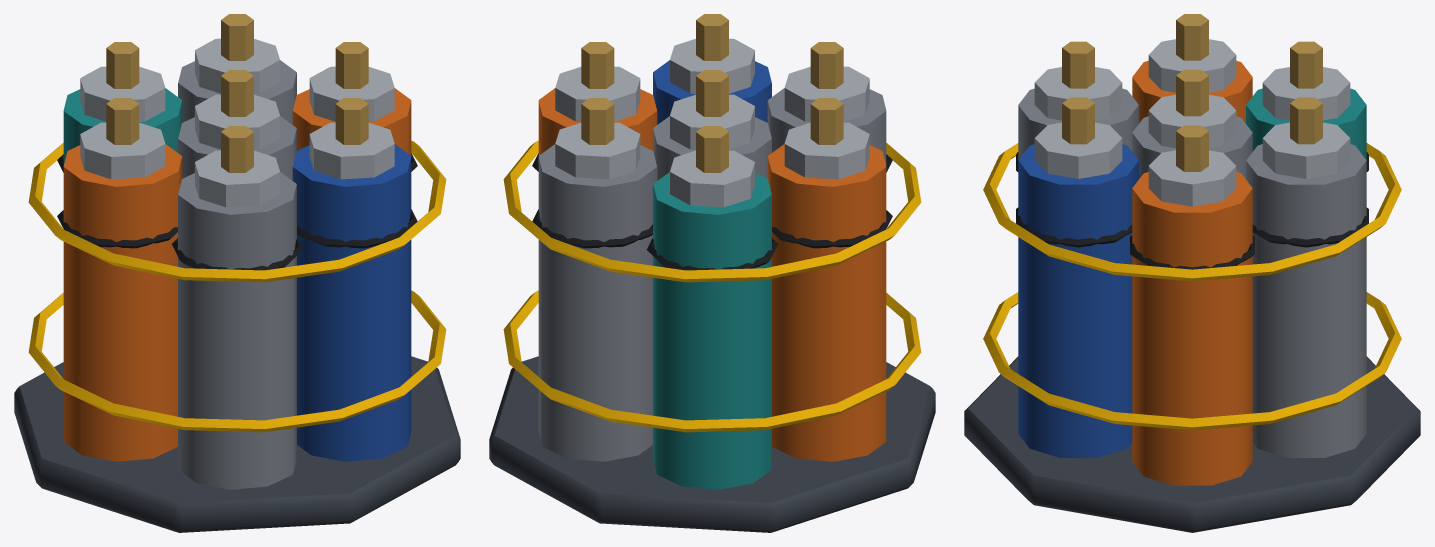
The model's file is barrel_canister_cluster.glb.
3 views of the same model, side by side, from view 1: azimuth 30°, elevation 25°; view 2: azimuth 150°, elevation 25°; view 3: azimuth 270°, elevation 25° (orthographic).
Visible parts, largest first — view 1: barrel_canister_cluster; view 2: barrel_canister_cluster; view 3: barrel_canister_cluster.
Part boxes in pixels (x1,y1,x2,y2): barrel_canister_cluster: (14, 14, 460, 532); barrel_canister_cluster: (489, 14, 935, 532); barrel_canister_cluster: (964, 14, 1420, 532).
Size of the model in its own units: 0.8323 by 0.73 by 0.8323.
